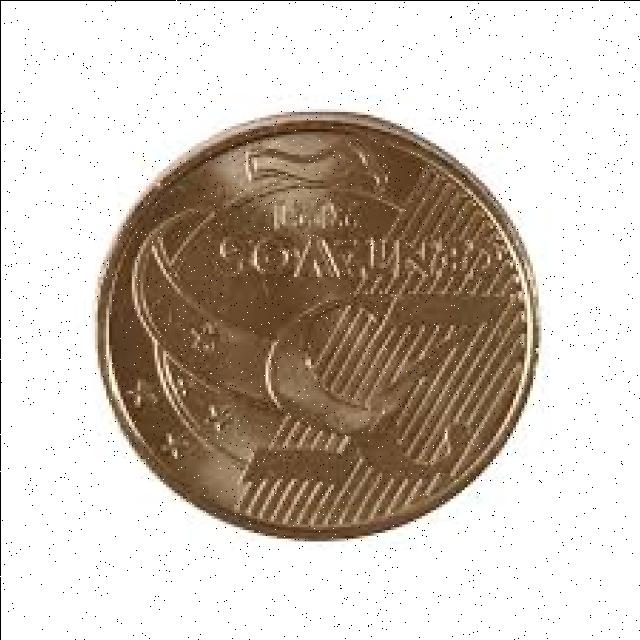25 cent: (91, 130, 536, 536)
